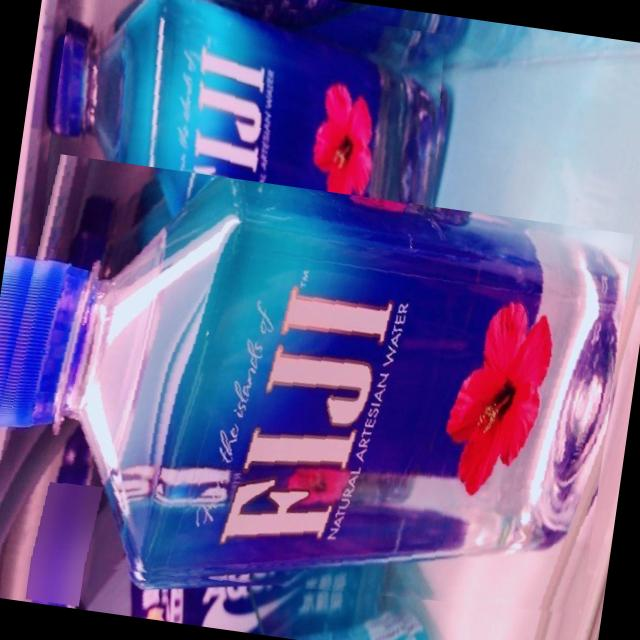plastic bottle: (0, 148, 634, 640), (41, 0, 462, 258)
